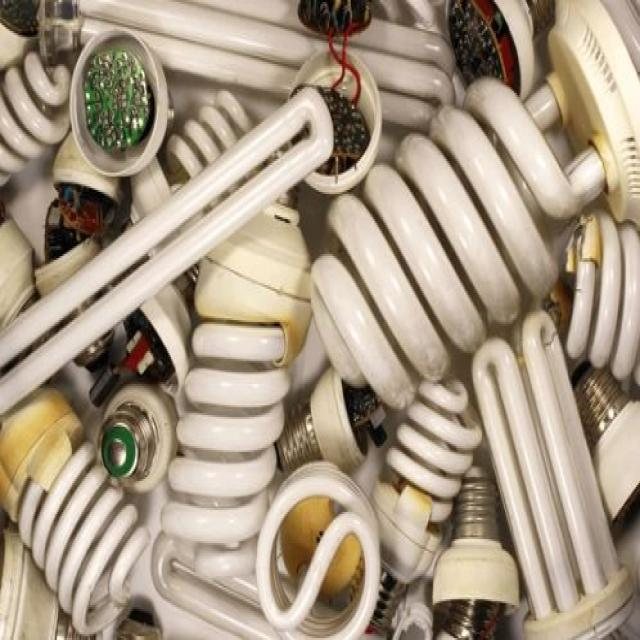electronic: (0, 0, 639, 638), (68, 25, 172, 177)
